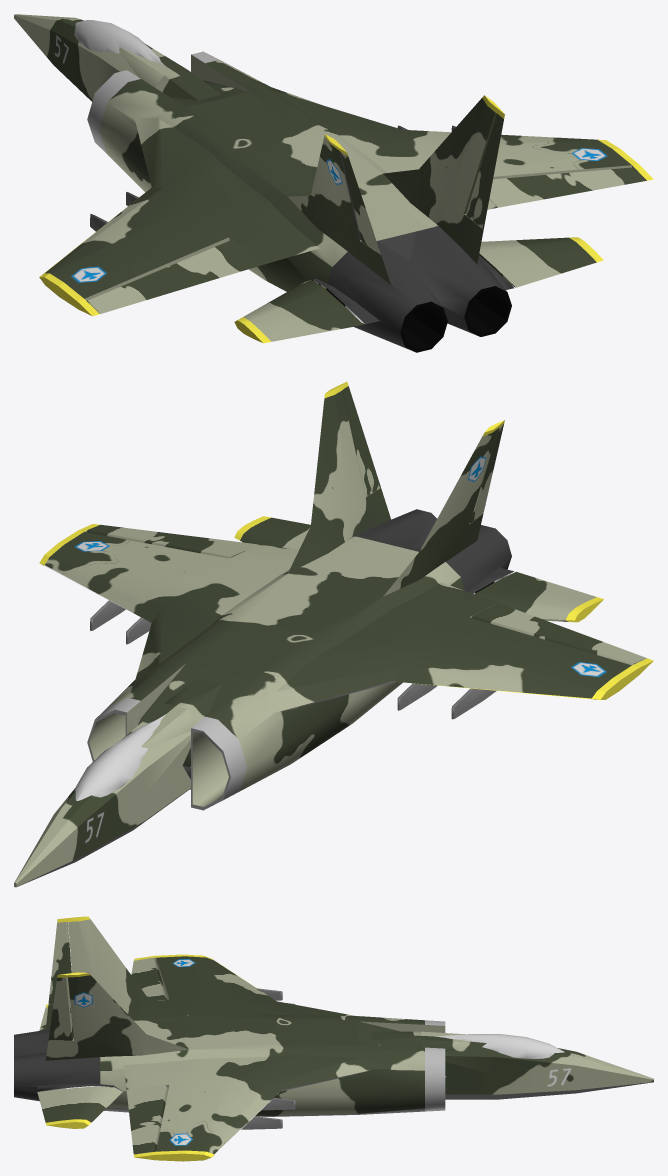
The model's file is FighterInterceptor.FBX.
The picture shows the model from 3 angles, top to bottom: view 1: azimuth 30°, elevation 25°; view 2: azimuth 150°, elevation 25°; view 3: azimuth 270°, elevation 25°; orthographic projection. The views are drawn at different scales.
Parts seen in each view (by area): view 1: Fuselage, ElevatorLeft, LeftFlap, ElevatorRight, RightFlap, RightRudder, LeftRudder; view 2: Fuselage, ElevatorLeft, LeftFlap, RightFlap, ElevatorRight, RightRudder, LeftRudder; view 3: Fuselage, ElevatorRight, RightFlap, RightRudder, LeftRudder, LeftFlap.
Boxes of the visible parts, x1,y1,x2,y2 form: Fuselage: (14, 14, 653, 352); ElevatorLeft: (234, 280, 363, 343); LeftFlap: (87, 240, 258, 313); ElevatorRight: (479, 237, 603, 287); RightFlap: (489, 167, 646, 207); RightRudder: (465, 113, 503, 229); LeftRudder: (341, 152, 380, 254); Fuselage: (14, 382, 653, 887); ElevatorLeft: (475, 571, 603, 622); LeftFlap: (472, 603, 646, 665); RightFlap: (87, 524, 258, 558); ElevatorRight: (234, 516, 310, 549); RightRudder: (342, 386, 380, 496); LeftRudder: (470, 424, 503, 523); Fuselage: (14, 916, 653, 1161); ElevatorRight: (37, 1086, 122, 1128); RightFlap: (126, 1085, 168, 1154); RightRudder: (48, 977, 73, 1040); LeftRudder: (48, 922, 71, 1004); LeftFlap: (131, 958, 167, 1000).
Bounding box in the file's own units: 430 × 156 × 584.
